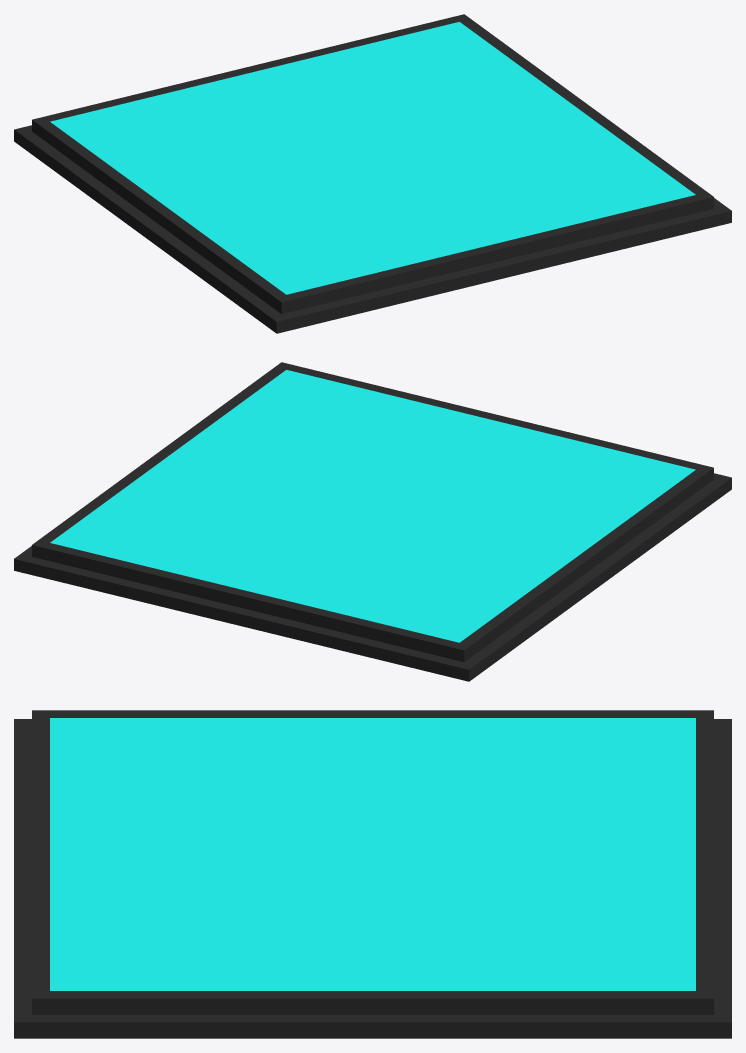
File: plate_blue.obj
The picture shows the model from 3 angles, top to bottom: view 1: azimuth 30°, elevation 25°; view 2: azimuth 150°, elevation 25°; view 3: azimuth 270°, elevation 25°; orthographic projection. The views are drawn at different scales.
Size of the model in its own units: 4 by 0.2 by 4.
Materials: 1 (1 with a texture image).
